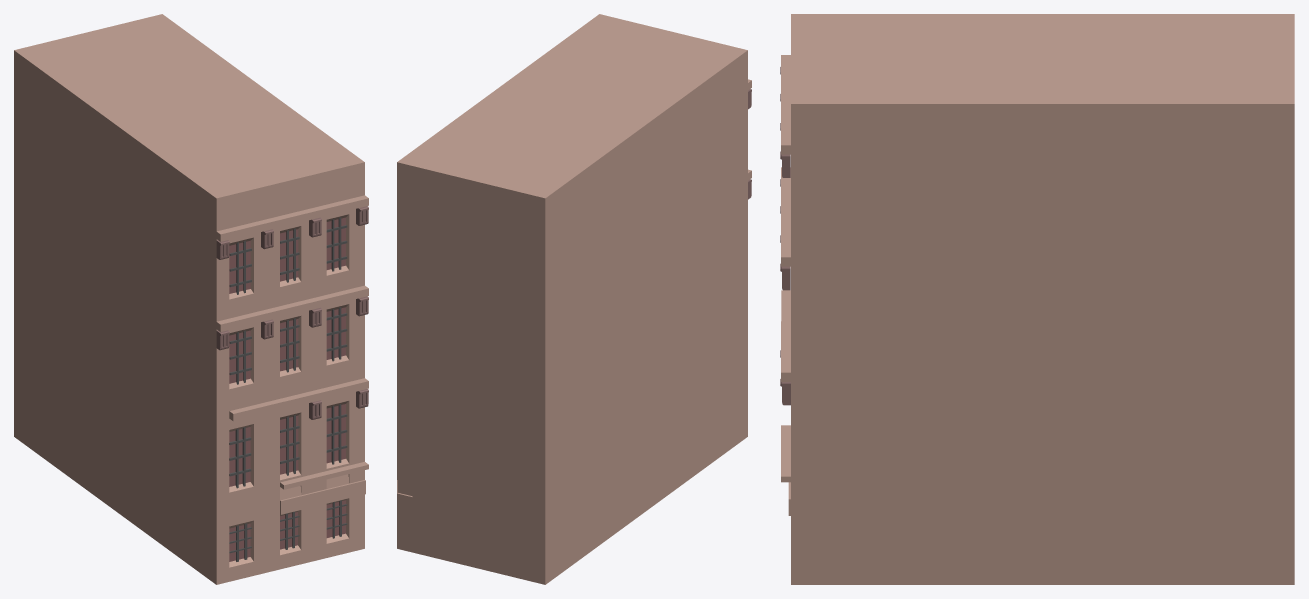
The model's file is brownstone2ndStory.fbx.
3 views of the same model, side by side, from view 1: azimuth 30°, elevation 25°; view 2: azimuth 150°, elevation 25°; view 3: azimuth 270°, elevation 25° (orthographic). The views are drawn at different scales.
Parts seen in each view (by area): view 1: building.001, Cube.092, Cube.081, Cube.085, Cube.083, Cube.080, Cube.086, Cube.087, Cube.084, Cube.082; view 2: building.001; view 3: building.001.
Part boxes in pixels (left/top/right/bottom): building.001: left=14, top=14, right=368, bottom=584; Cube.092: left=229, top=427, right=251, bottom=488; Cube.081: left=326, top=404, right=347, bottom=464; Cube.085: left=326, top=217, right=347, bottom=271; Cube.083: left=326, top=307, right=347, bottom=361; Cube.080: left=280, top=415, right=299, bottom=475; Cube.086: left=229, top=330, right=251, bottom=384; Cube.087: left=229, top=240, right=251, bottom=294; Cube.084: left=280, top=228, right=299, bottom=282; Cube.082: left=280, top=318, right=299, bottom=372; building.001: left=397, top=14, right=751, bottom=584; building.001: left=781, top=14, right=1294, bottom=584.
Bounding box in the file's own units: 423 × 1053 × 1022.
